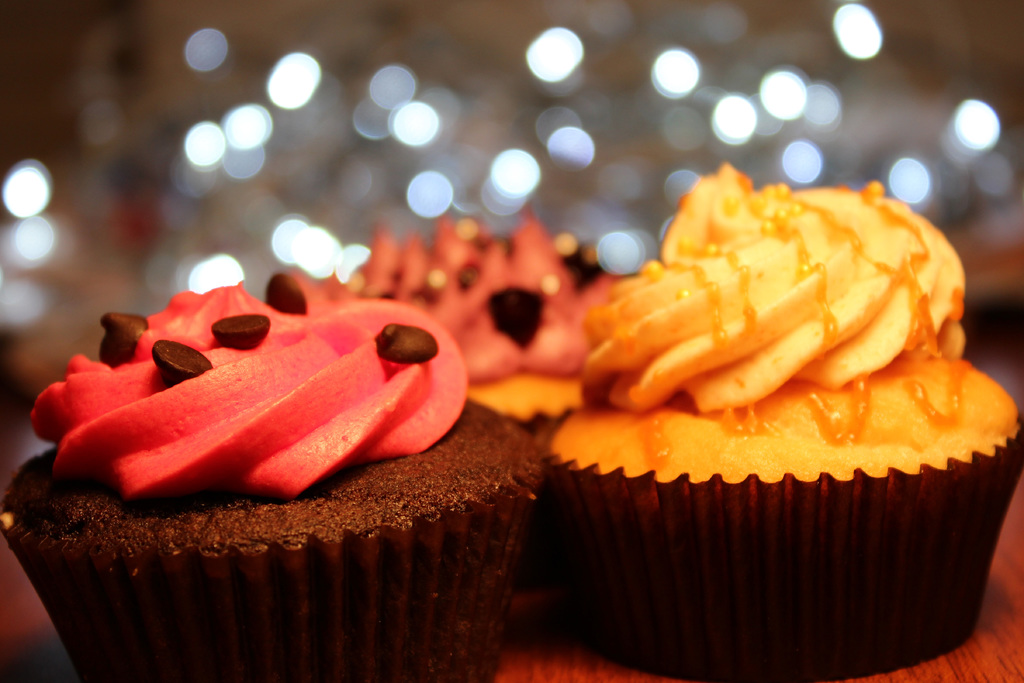cake: (535, 160, 1023, 682), (0, 277, 548, 682), (255, 206, 626, 362)
